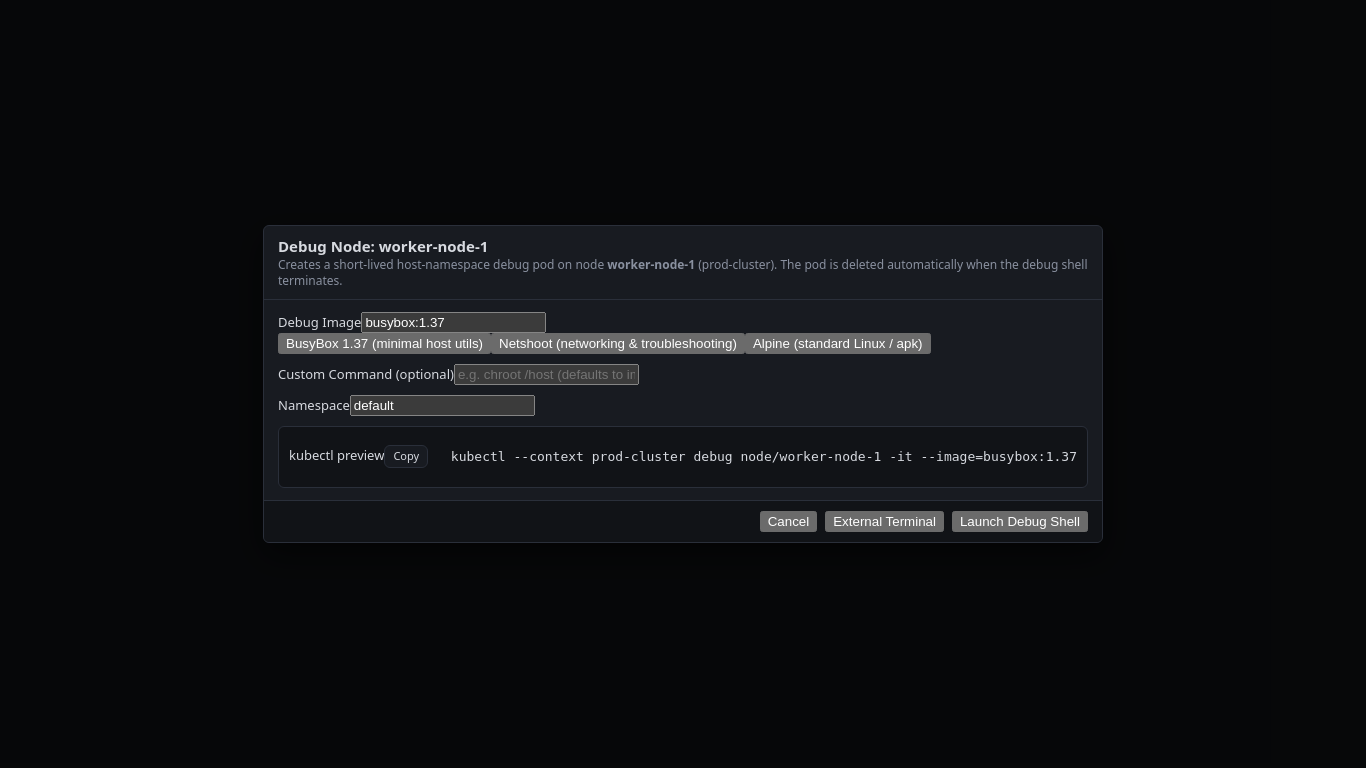
Test: <NodeDebugModal /> (04-03d) › displays preview from previewDebugNode and copies to clipboard
Expected: the text with test id "node-debug-preview" reads "kubectl --context prod-cluster debug node/worker-node-1 -it --image=busybox:1.37", [451,449,1077,464]
Click the button with test id "node-debug-copy-btn" at (406, 457), box [384,445,428,468]
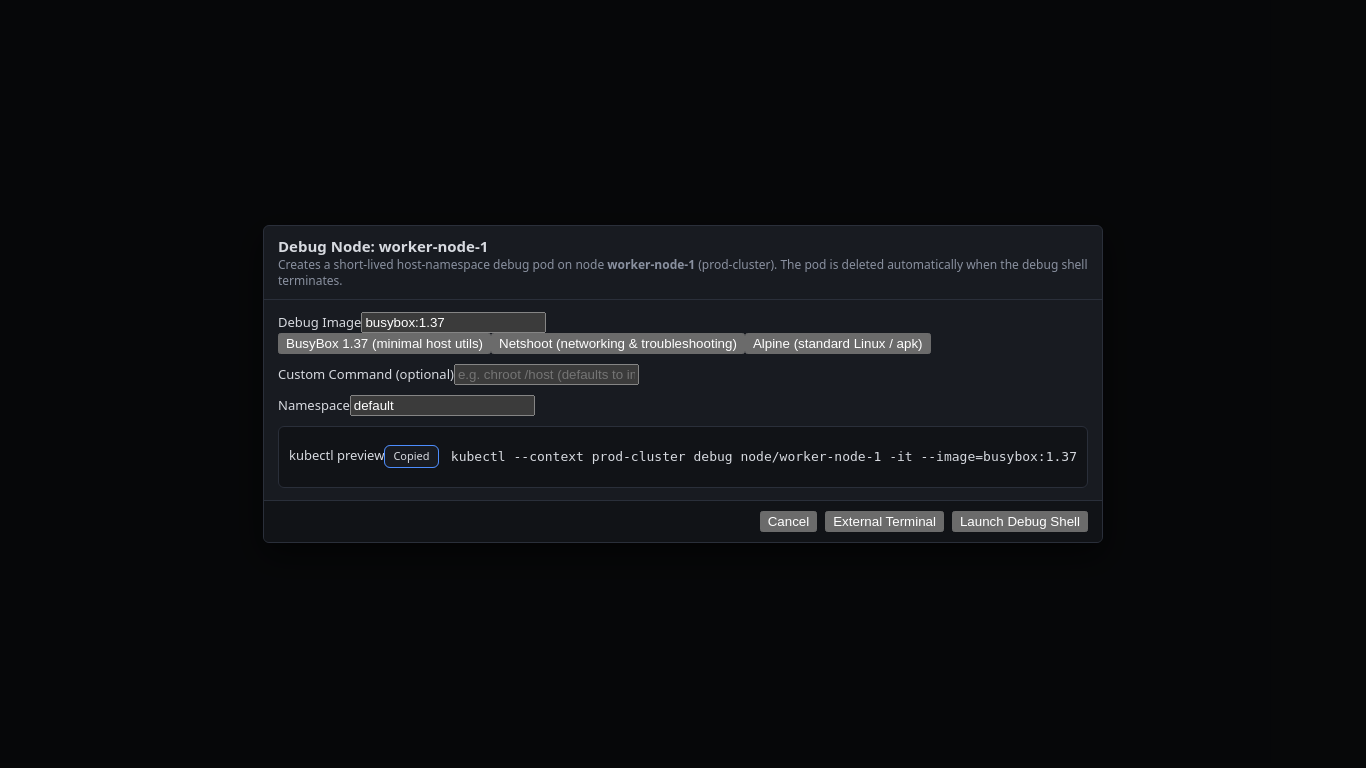
Expected: the button "Copied" is shown, [384,445,439,468]
